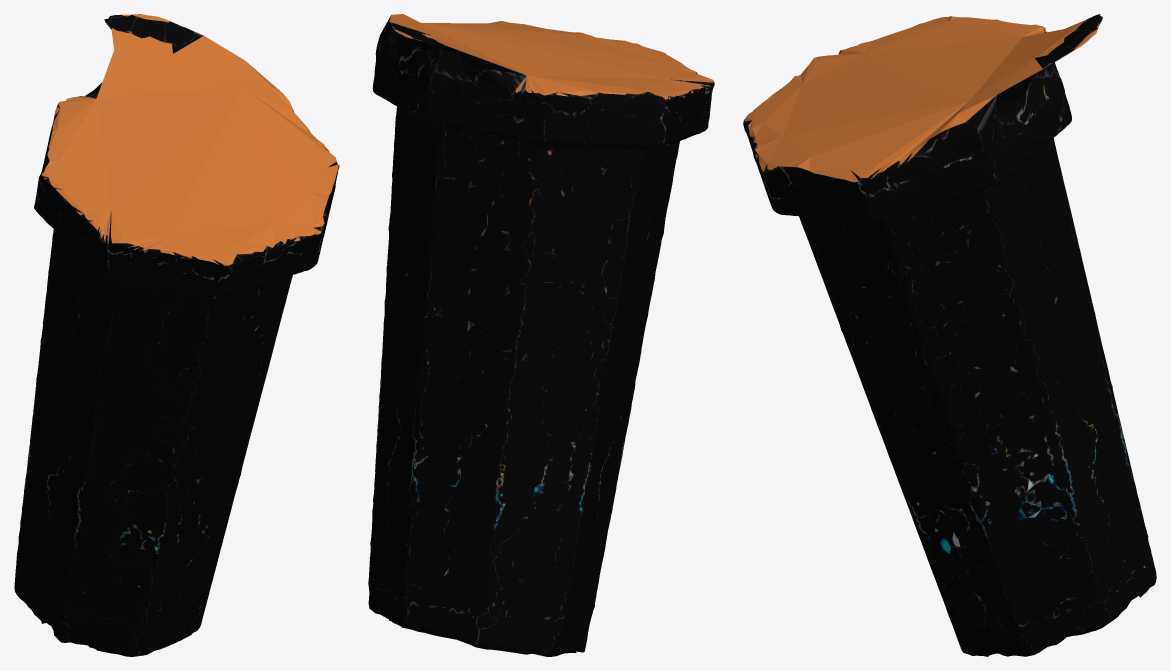
Rendered from memorial-obelisk.glb.
3 renders of one model, left to right at view 1: azimuth 30°, elevation 25°; view 2: azimuth 150°, elevation 25°; view 3: azimuth 270°, elevation 25°, orthographic. The views are drawn at different scales.
Visible parts, largest first — view 1: scene_dense_texture; view 2: scene_dense_texture; view 3: scene_dense_texture.
Part boxes in pixels (left/top/right/bottom): scene_dense_texture: left=14, top=14, right=339, bottom=656; scene_dense_texture: left=368, top=14, right=714, bottom=656; scene_dense_texture: left=743, top=14, right=1156, bottom=656.
Bounding box in the file's own units: 1.17 × 2.48 × 1.46.
Materials: 1 (1 with a texture image).
